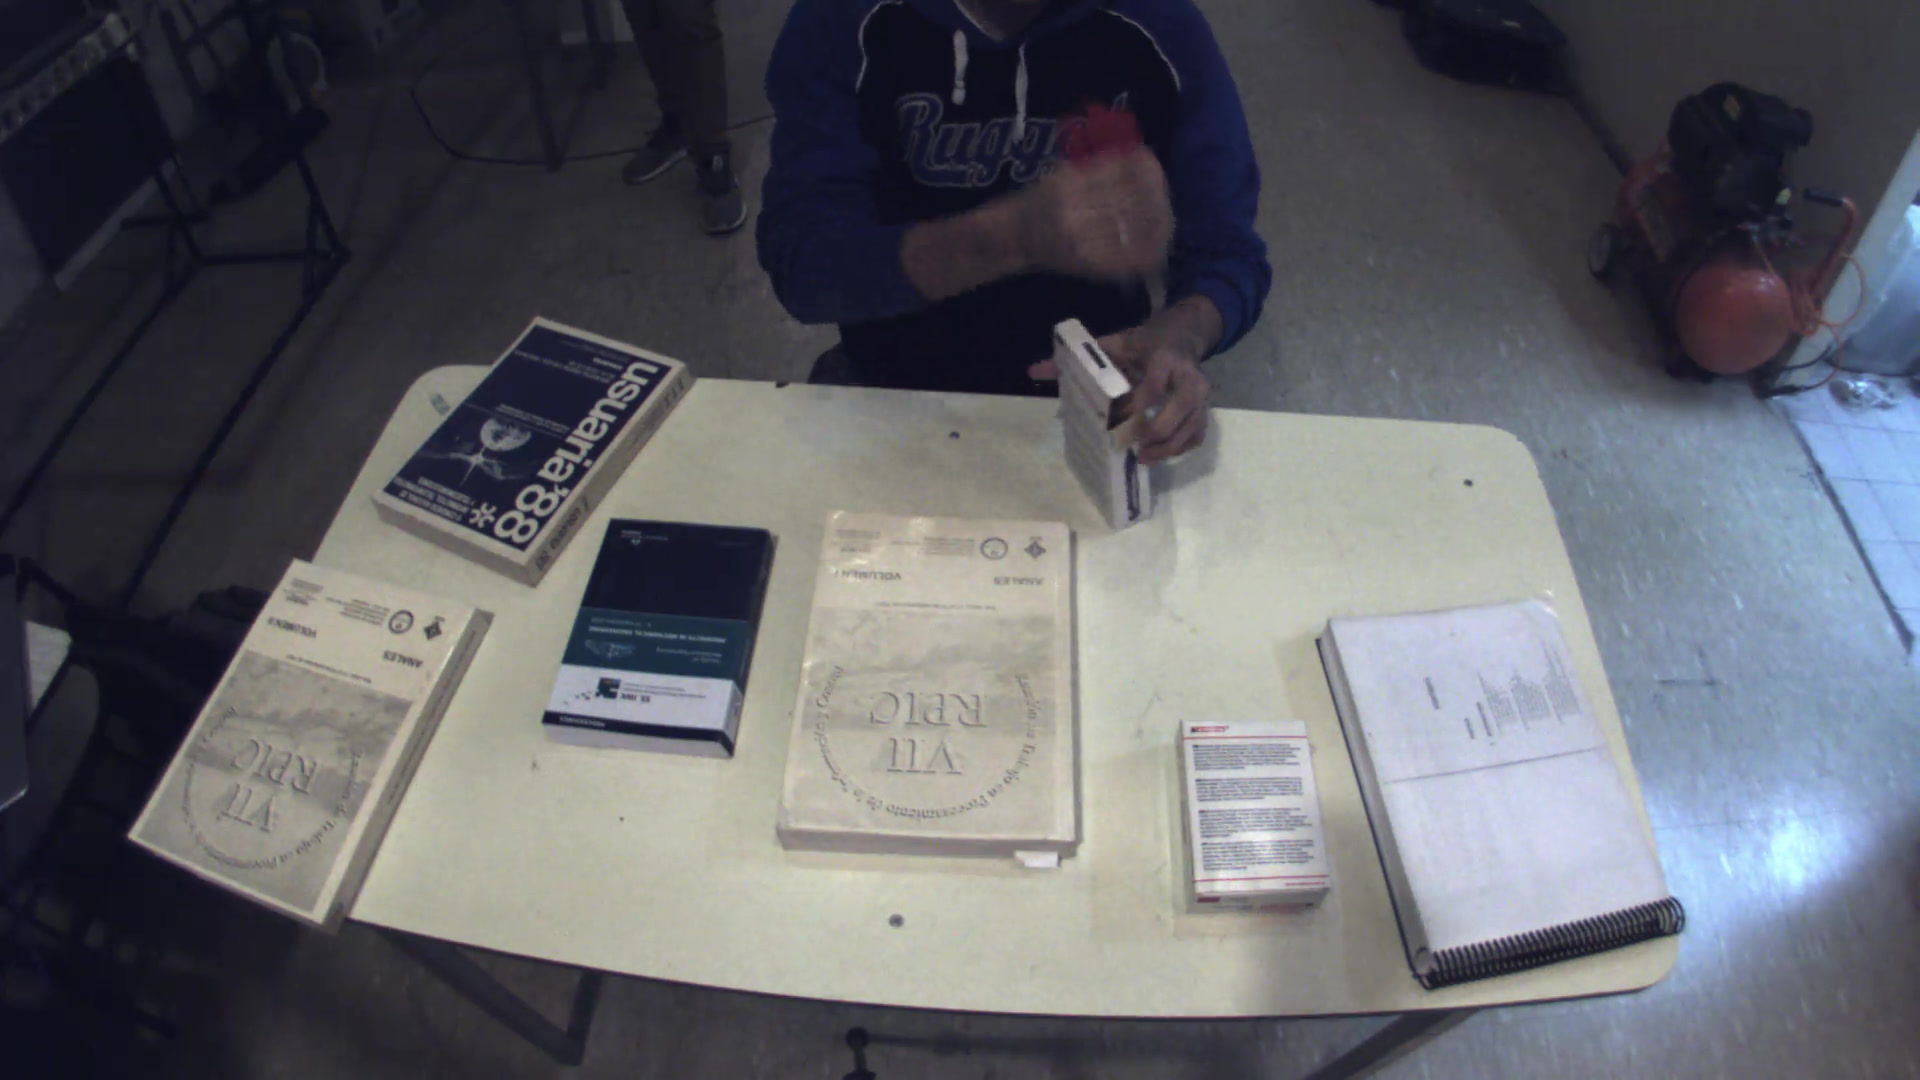hand: (901, 100, 1191, 301), (1102, 328, 1216, 448)
